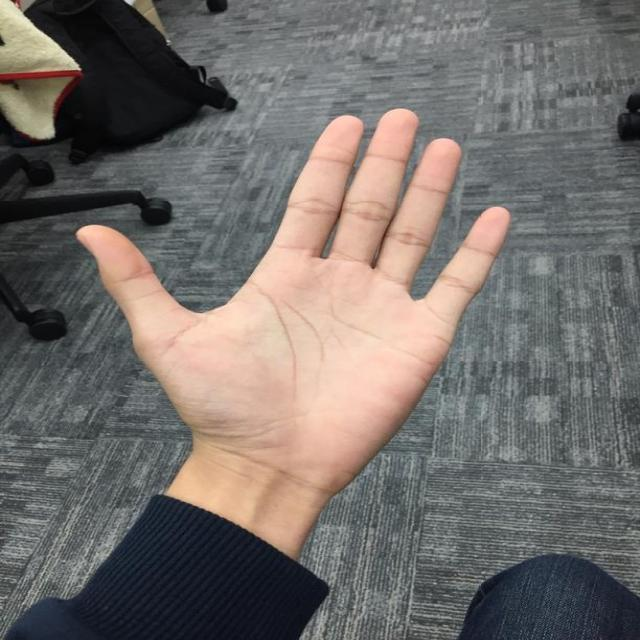hand: (68, 106, 510, 480)
